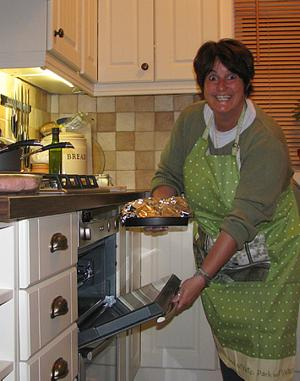person: (144, 36, 300, 380)
